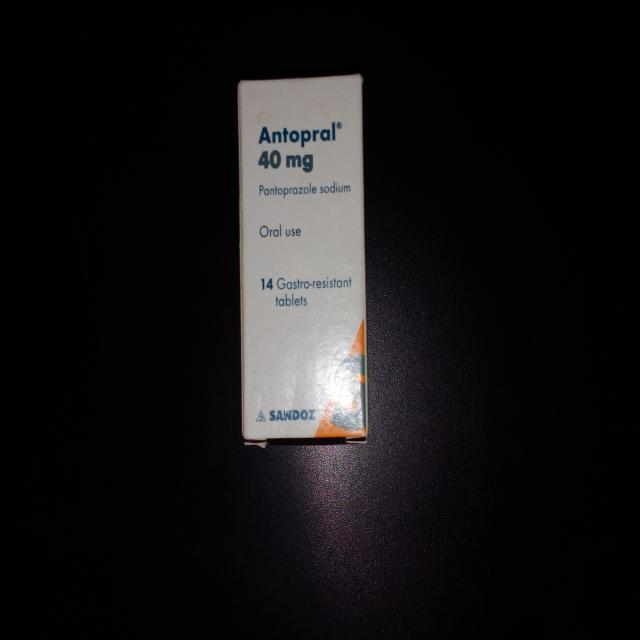Medicine Name: (254, 122, 339, 153)
